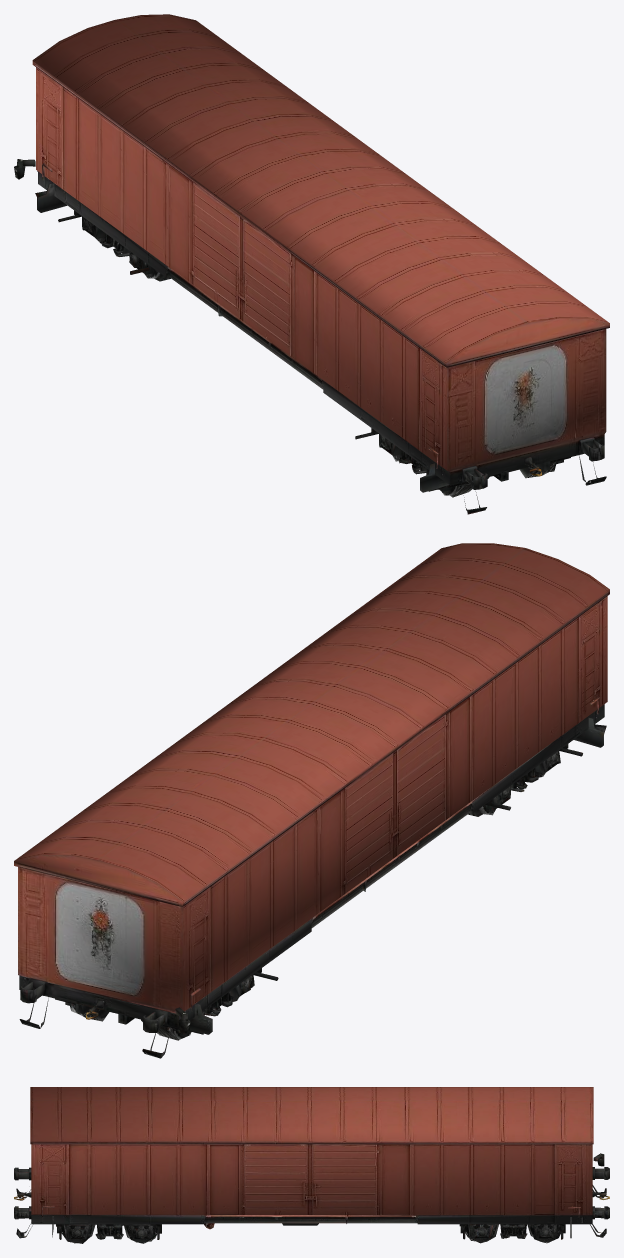
File: boxcar.glb
3 views of the same model, one above another, from view 1: azimuth 30°, elevation 25°; view 2: azimuth 150°, elevation 25°; view 3: azimuth 270°, elevation 25° (orthographic). The views are drawn at different scales.
Visible parts, largest first — view 1: tripo_node_bca6c355_0; view 2: tripo_node_bca6c355_0; view 3: tripo_node_bca6c355_0.
Part boxes in pixels (x1,y1,x2,y2): tripo_node_bca6c355_0: (14, 14, 609, 514); tripo_node_bca6c355_0: (14, 543, 609, 1058); tripo_node_bca6c355_0: (14, 1087, 609, 1243).
Bounding box in the file's own units: 0.2441 × 0.2363 × 0.998.
1 material, 1 textured.
